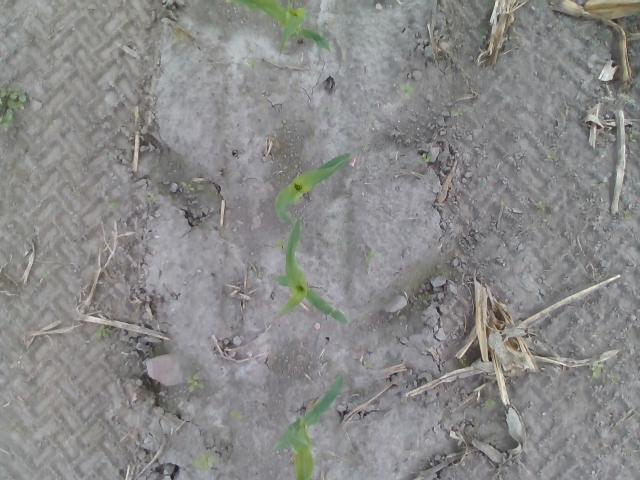Maize: (271, 373, 347, 480), (274, 219, 350, 323), (227, 0, 333, 57), (274, 152, 350, 222)
Weeds: (0, 86, 27, 132), (192, 452, 215, 470), (184, 372, 204, 392), (586, 360, 604, 382), (94, 325, 113, 338), (399, 83, 414, 98), (364, 250, 378, 265), (416, 153, 434, 163), (454, 107, 470, 116), (172, 31, 185, 42), (246, 57, 259, 68), (620, 93, 634, 103), (322, 104, 334, 115), (273, 237, 285, 248), (180, 182, 194, 191), (229, 410, 242, 419), (12, 422, 21, 434), (624, 208, 632, 221), (590, 182, 607, 188), (546, 150, 556, 160), (484, 398, 496, 406), (362, 359, 372, 368), (538, 200, 546, 209), (313, 454, 321, 463), (612, 375, 620, 383), (629, 133, 636, 142), (108, 202, 115, 210), (149, 193, 157, 200)
